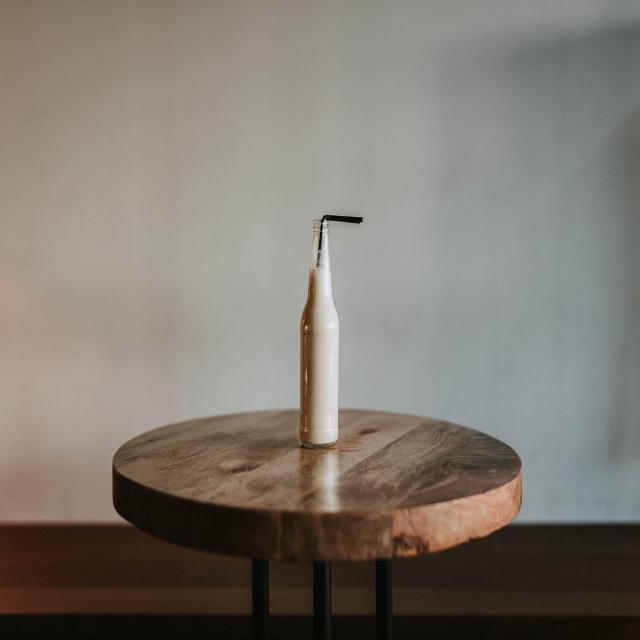glass bottle: (300, 217, 341, 452)
